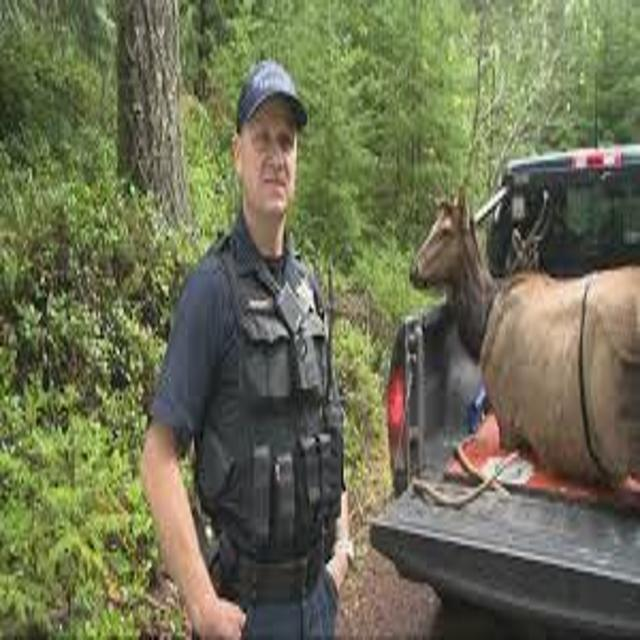deer: (388, 86, 638, 535)
poacher: (106, 37, 381, 640)
